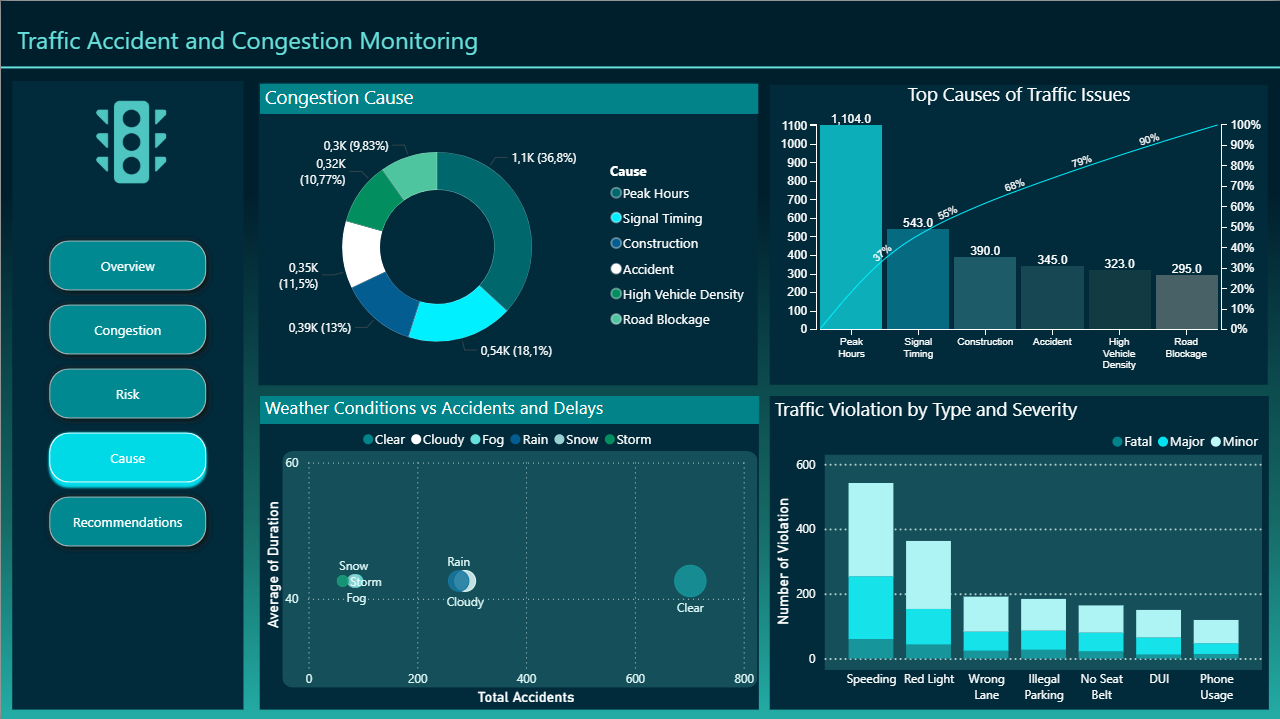

Layout of this report page (visuals, bound fields, positions):
{"tool":"powerbi","page":{"name":"Cause ","canvas":[1280,720],"ordinal":3},"visuals":[{"type":"shape","box":[11.4,80,231.4,628.6],"z":0},{"type":"shape","box":[0,60,1280,12.9],"z":1000},{"type":"textbox","box":[11.4,17.1,492.9,42.9],"z":2000},{"type":"image","box":[64.3,97.1,134.3,87.1],"z":3000},{"type":"shape","box":[257.7,81,499.4,303.1],"z":4000},{"type":"shape","box":[258.2,394.5,499.1,313.6],"z":5000},{"type":"shape","box":[768.2,394.5,499.1,313.6],"z":6000},{"type":"shape","box":[769,84,498,300],"z":7000},{"type":"paretoEDD8E69761BA4B7BB3AA6D813990D7BF","title":"Top Causes of Traffic Issues","fields":{"categories":["Congestion.Cause"],"values":["CountNonNull(Congestion.CongestionID)"]},"box":[769.1,79.4,498.5,304.4],"z":8000},{"type":"columnChart","title":"Traffic Violation by Type and Severity","fields":{"Category":["TrafficViolations.Type"],"Y":["All measures.Traffick Violation"],"Series":["Accidents.Severity"]},"box":[769.1,394.5,498.2,313.6],"z":9000},{"type":"shape","box":[823.6,453.6,437.3,215.5],"z":10000},{"type":"donutChart","title":"Congestion Cause","fields":{"Category":["Congestion.Cause"],"Y":["CountNonNull(Congestion.CongestionID)"]},"box":[258.2,82.7,498.2,300.9],"z":11000},{"type":"scatterChart","title":"Weather Conditions vs Accidents and Delays","fields":{"Category":["Accidents.Weather"],"X":["All measures.Total Accidents"],"Y":["Avg(Congestion.Duration)"],"Size":["All measures.Total Accidents"],"Series":["Accidents.Weather"]},"box":[258.2,394.5,499.1,313.6],"z":12000},{"type":"shape","box":[280.8,449.6,475.4,236.7],"z":13000},{"type":"pageNavigator","box":[41,233,171,323],"z":14000}]}

Visuals, with their boxes in screenshot pixels (x1, y1, x2, y2), scaled from the page's 1280x720 canvas onto the 1280x719 screenshot:
shape: box(11, 80, 243, 708)
shape: box(0, 60, 1279, 73)
textbox: box(11, 17, 504, 60)
image: box(64, 97, 199, 184)
shape: box(258, 81, 757, 384)
shape: box(258, 394, 757, 707)
shape: box(768, 394, 1267, 707)
shape: box(769, 84, 1267, 383)
"Top Causes of Traffic Issues" paretoEDD8E69761BA4B7BB3AA6D813990D7BF: box(769, 79, 1268, 383)
"Traffic Violation by Type and Severity" columnChart: box(769, 394, 1267, 707)
shape: box(824, 453, 1261, 668)
"Congestion Cause" donutChart: box(258, 83, 756, 383)
"Weather Conditions vs Accidents and Delays" scatterChart: box(258, 394, 757, 707)
shape: box(281, 449, 756, 685)
pageNavigator: box(41, 233, 212, 555)
